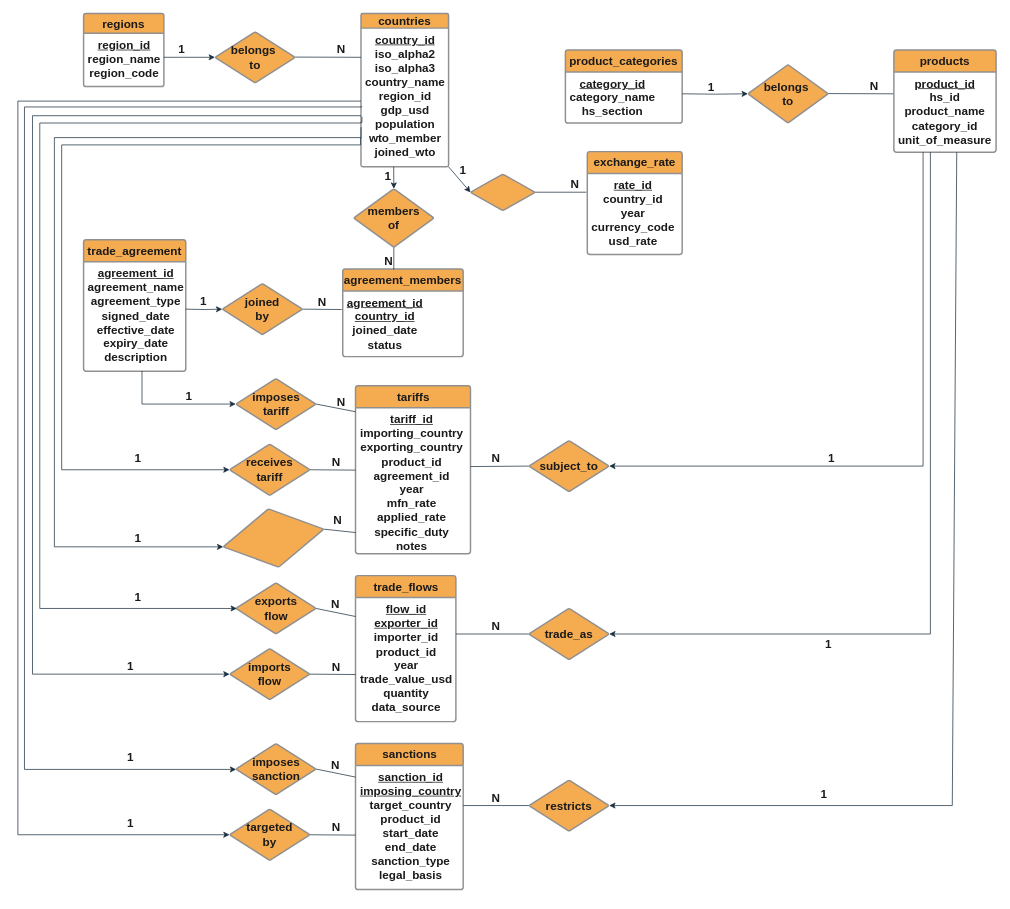
Image size: 1010x909. Some labels were removed from this diagram. The shapes that lost their labels are listed below. From the top down, each one's centre as x and y in pixels, then its label:
point 502,192: has_rate
point 273,537: grants preference
